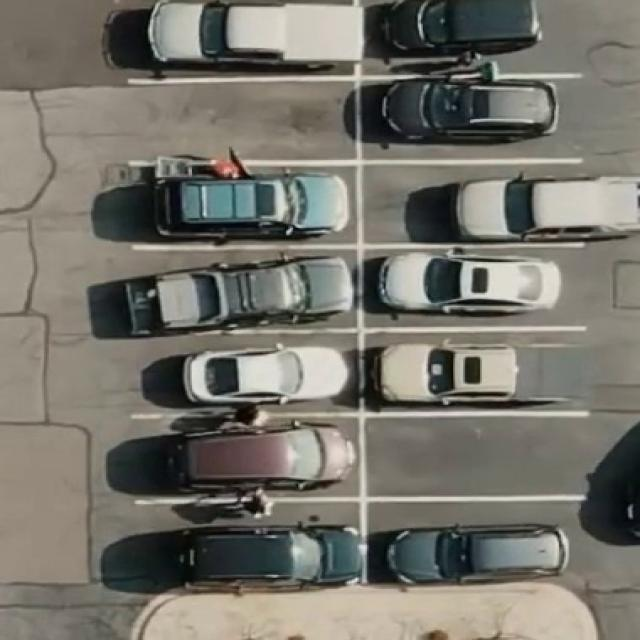empty: (368, 420, 583, 494), (129, 89, 355, 155)
notEmpty: (375, 506, 584, 584), (367, 167, 593, 239), (138, 509, 356, 583), (135, 421, 357, 492), (140, 252, 350, 325), (137, 170, 351, 241), (372, 339, 590, 408), (368, 0, 578, 71), (147, 339, 354, 411), (370, 84, 580, 154), (372, 253, 576, 324), (131, 3, 347, 70)
